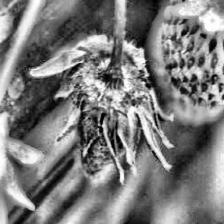Gray Mold: (54, 3, 175, 183)
